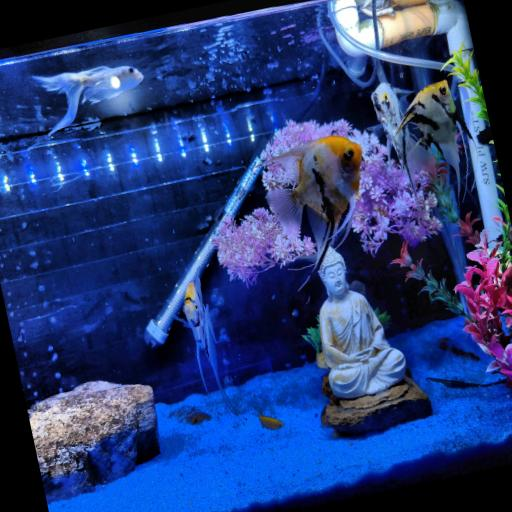Fish: (266, 136, 362, 268), (397, 80, 472, 195), (33, 66, 143, 135), (177, 277, 234, 409), (372, 82, 418, 203), (260, 413, 283, 429)
